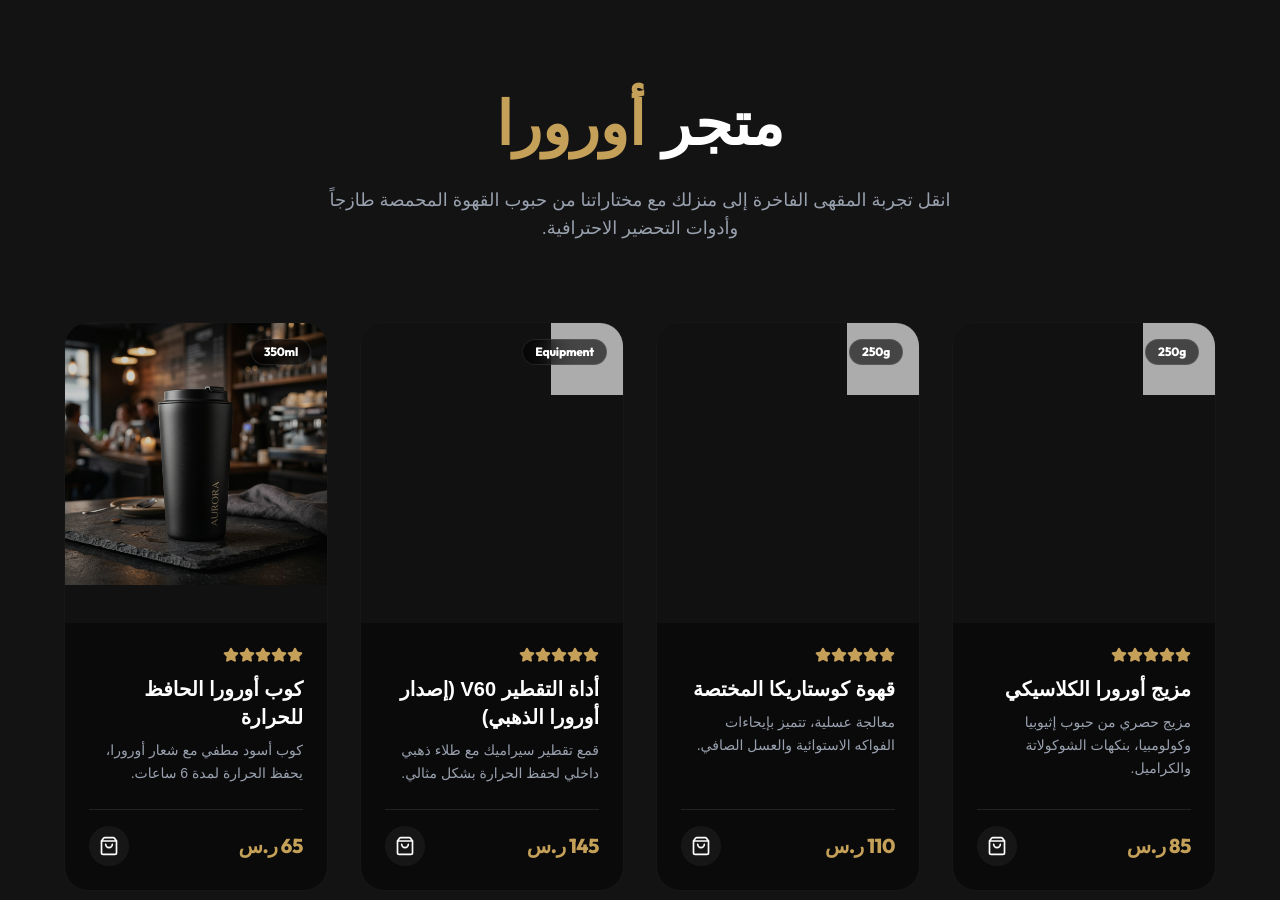
Scenario: ShopPage › shows a toast notification when adding a product to cart
The width and height of the screenshot is (1280, 900).
Click the first button
Click the button named "أضف إلى السلة" next to "85 ر.س": coordinates (997, 846) [977, 826, 1017, 866]
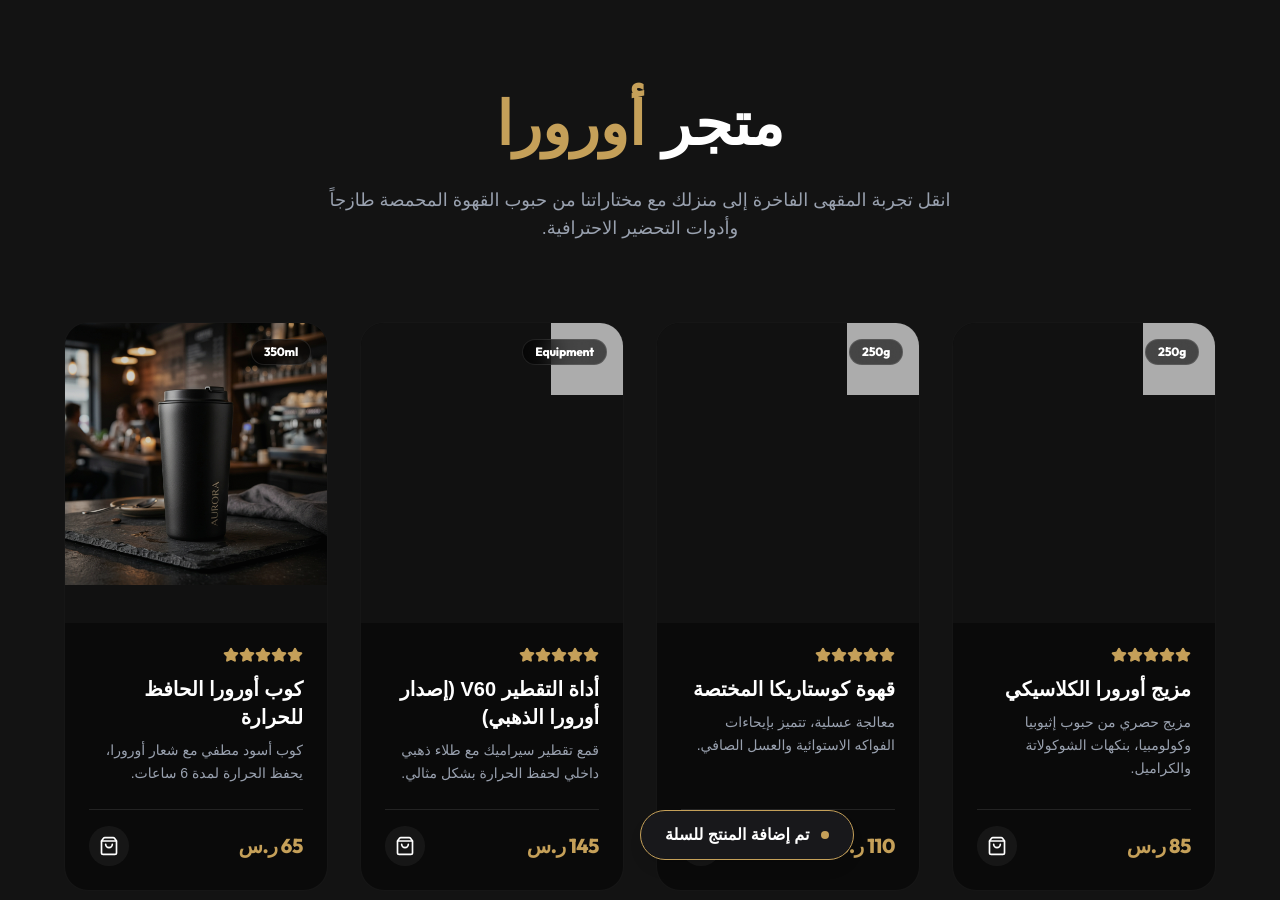
Check: the text "تم إضافة المنتج للسلة" is shown, box [640, 810, 854, 860]
